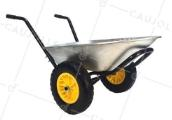BROUETTE: (6, 10, 164, 115)
